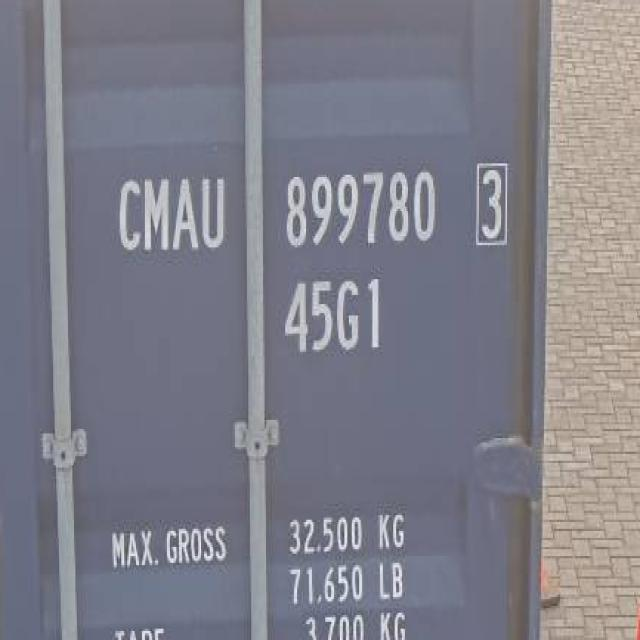dv: (469, 157, 514, 258)
owner: (110, 163, 232, 262)
serial: (278, 161, 446, 256)
size: (276, 271, 390, 362)
